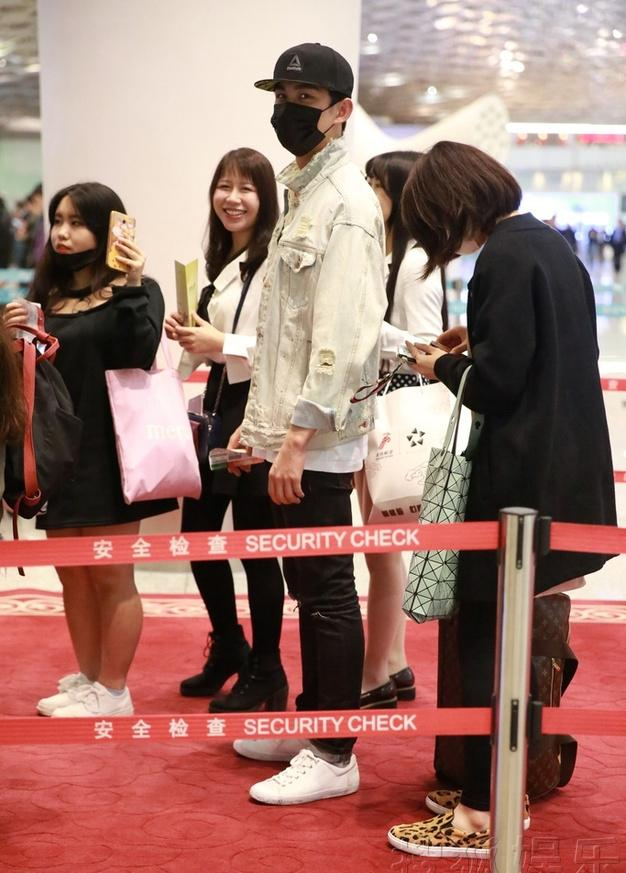face: (51, 197, 94, 266), (214, 163, 258, 230)
face_mask: (271, 73, 328, 159)
